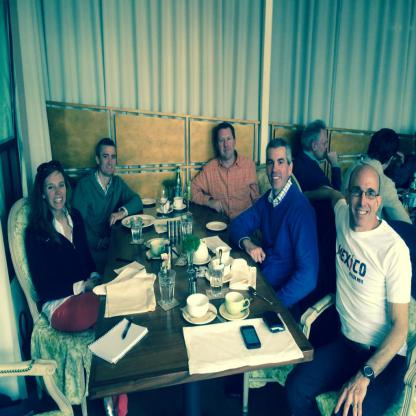face: (350, 173, 378, 227), (267, 149, 290, 190), (45, 173, 67, 209), (218, 131, 235, 160), (100, 147, 117, 176), (317, 132, 330, 159)
